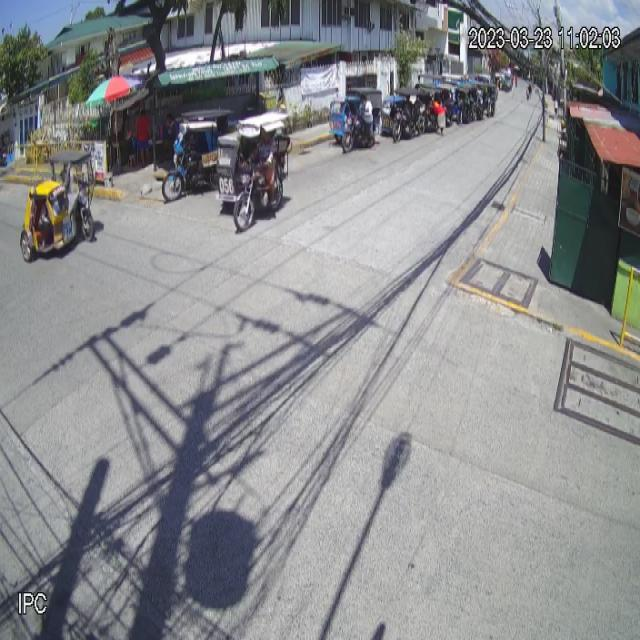Tricycle: (217, 112, 293, 230), (19, 149, 96, 264)
